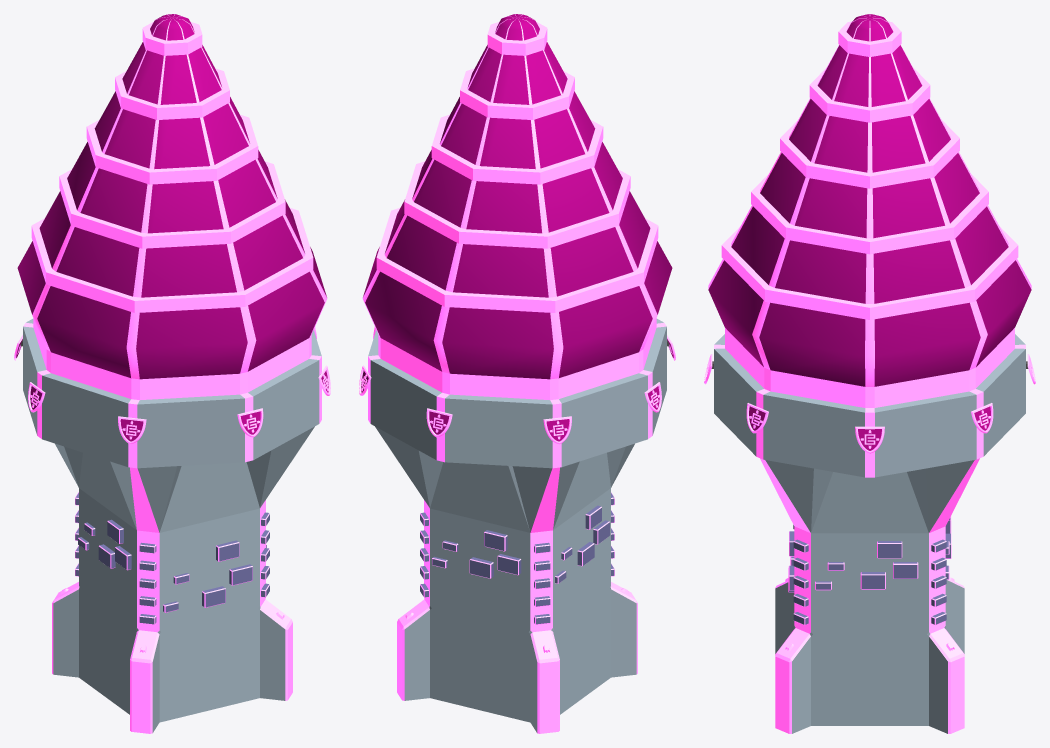
File: asset_castle_tower4.fbx
3 views of the same model, side by side, from view 1: azimuth 30°, elevation 25°; view 2: azimuth 150°, elevation 25°; view 3: azimuth 270°, elevation 25° (orthographic).
Parts seen in each view (by area): view 1: top_tower, tower2_base, pCylinder35, pCylinder36, pCylinder37, pCylinder38, pCylinder34, polySurface30; view 2: top_tower, tower2_base, pCylinder35, pCylinder36, pCylinder37, pCylinder38, pCylinder34, polySurface30; view 3: top_tower, tower2_base, pCylinder35, pCylinder36, pCylinder37, pCylinder38, pCylinder34, polySurface30.
Boxes of the visible parts, x1=… form: top_tower: x1=17, y1=14, x2=327, y2=468; tower2_base: x1=52, y1=426, x2=314, y2=733; pCylinder35: x1=31, y1=208, x2=313, y2=312; pCylinder36: x1=59, y1=161, x2=285, y2=248; pCylinder37: x1=86, y1=114, x2=258, y2=184; pCylinder38: x1=115, y1=68, x2=229, y2=119; pCylinder34: x1=142, y1=21, x2=202, y2=55; polySurface30: x1=118, y1=416, x2=146, y2=444; top_tower: x1=362, y1=14, x2=672, y2=468; tower2_base: x1=375, y1=426, x2=637, y2=733; pCylinder35: x1=376, y1=208, x2=658, y2=312; pCylinder36: x1=404, y1=161, x2=630, y2=248; pCylinder37: x1=431, y1=114, x2=603, y2=184; pCylinder38: x1=460, y1=68, x2=574, y2=119; pCylinder34: x1=487, y1=21, x2=547, y2=55; polySurface30: x1=543, y1=416, x2=571, y2=444; top_tower: x1=708, y1=14, x2=1031, y2=477; tower2_base: x1=760, y1=458, x2=979, y2=733; pCylinder35: x1=721, y1=226, x2=1018, y2=319; pCylinder36: x1=751, y1=174, x2=988, y2=254; pCylinder37: x1=780, y1=119, x2=959, y2=188; pCylinder38: x1=809, y1=68, x2=930, y2=122; pCylinder34: x1=838, y1=21, x2=901, y2=56; polySurface30: x1=855, y1=426, x2=884, y2=453.
Size of the model in its own units: 4731 by 10622 by 4731.
